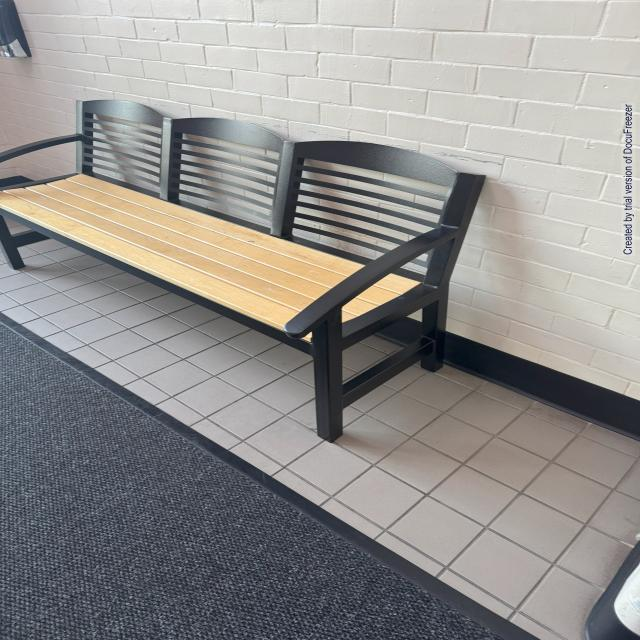chair: (1, 89, 496, 432)
